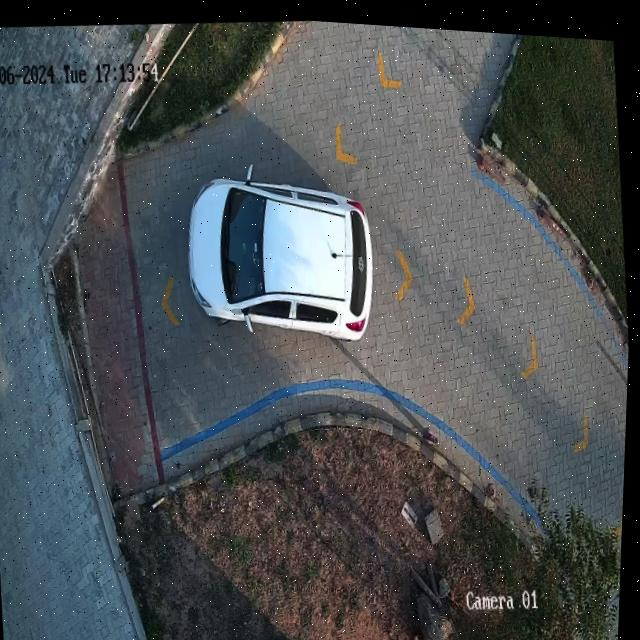car: (186, 174, 375, 336)
